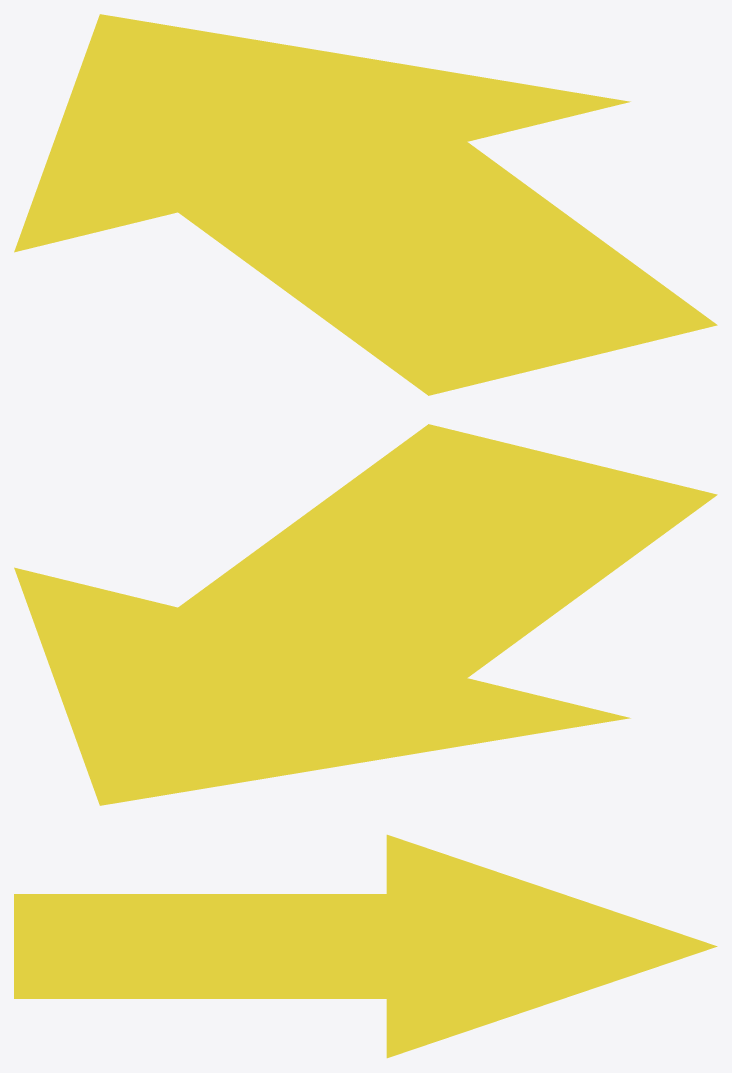
The model's file is flecha.glb.
The picture shows the model from 3 angles, top to bottom: view 1: azimuth 30°, elevation 25°; view 2: azimuth 150°, elevation 25°; view 3: azimuth 270°, elevation 25°; orthographic projection. The views are drawn at different scales.
Visible parts, largest first — view 1: flecha; view 2: flecha; view 3: flecha.
Boxes of the visible parts, x1=… form: flecha: x1=14, y1=14, x2=717, y2=395; flecha: x1=14, y1=424, x2=717, y2=805; flecha: x1=14, y1=834, x2=717, y2=1058.
Bounding box in the file's own units: 0.64 × 0 × 0.85.
